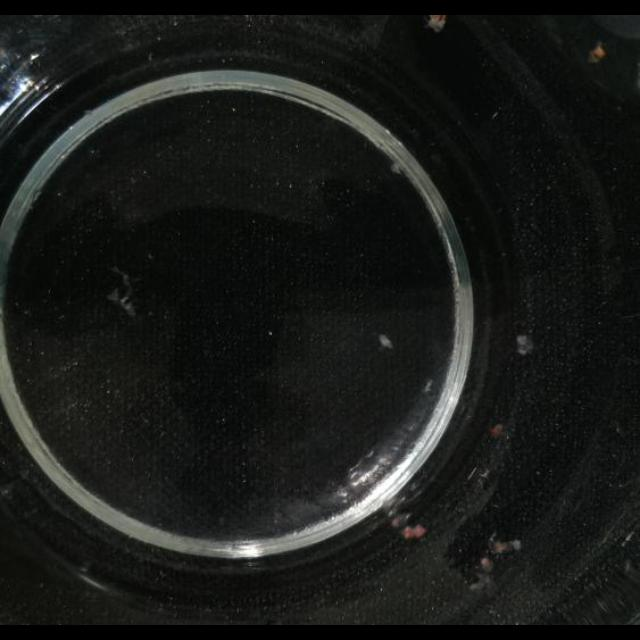Fibre: (102, 266, 138, 318), (377, 334, 393, 351), (389, 160, 403, 176)
Fragment: (588, 42, 606, 62), (490, 424, 504, 438), (480, 558, 494, 572)
microbeads: (516, 334, 534, 356), (403, 524, 427, 540), (490, 540, 508, 554), (423, 378, 435, 394), (231, 106, 237, 114), (267, 330, 273, 336)
